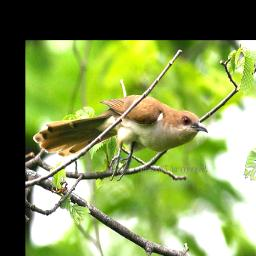Cuckoo: (32, 95, 209, 181)
